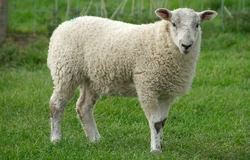sheep: (40, 5, 204, 160)
